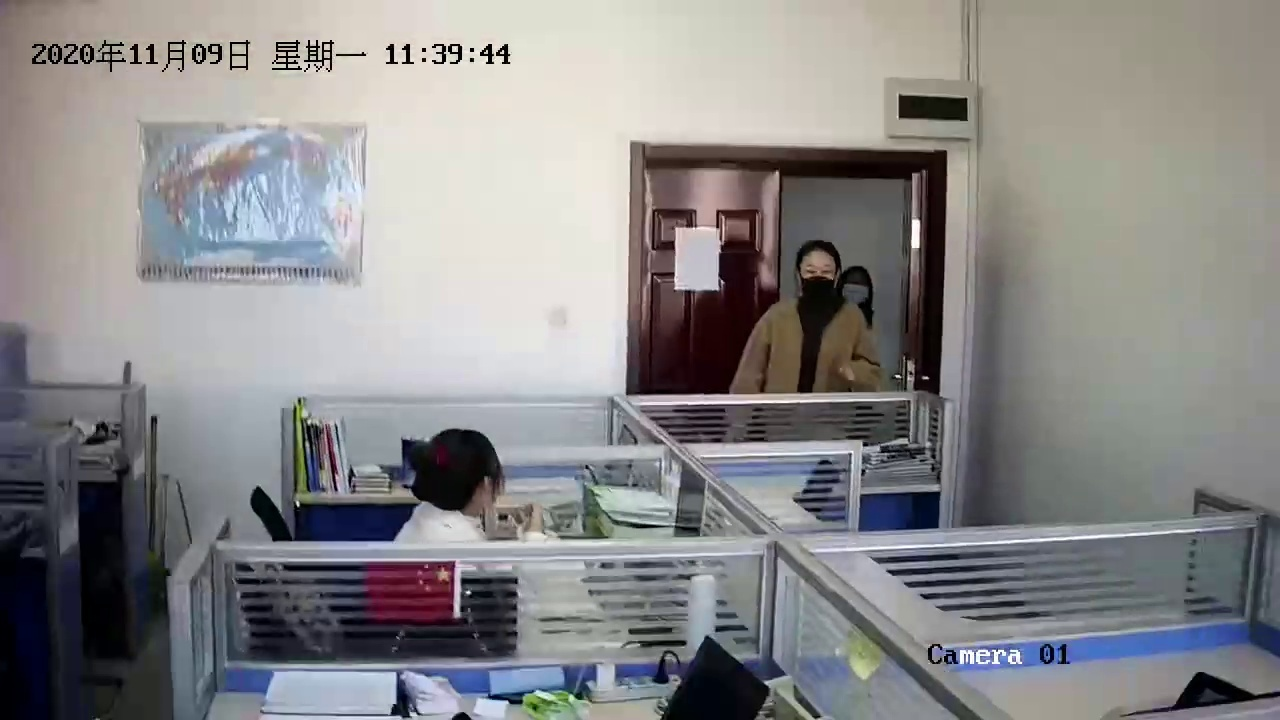mask: (800, 243, 841, 305), (845, 268, 874, 310)
